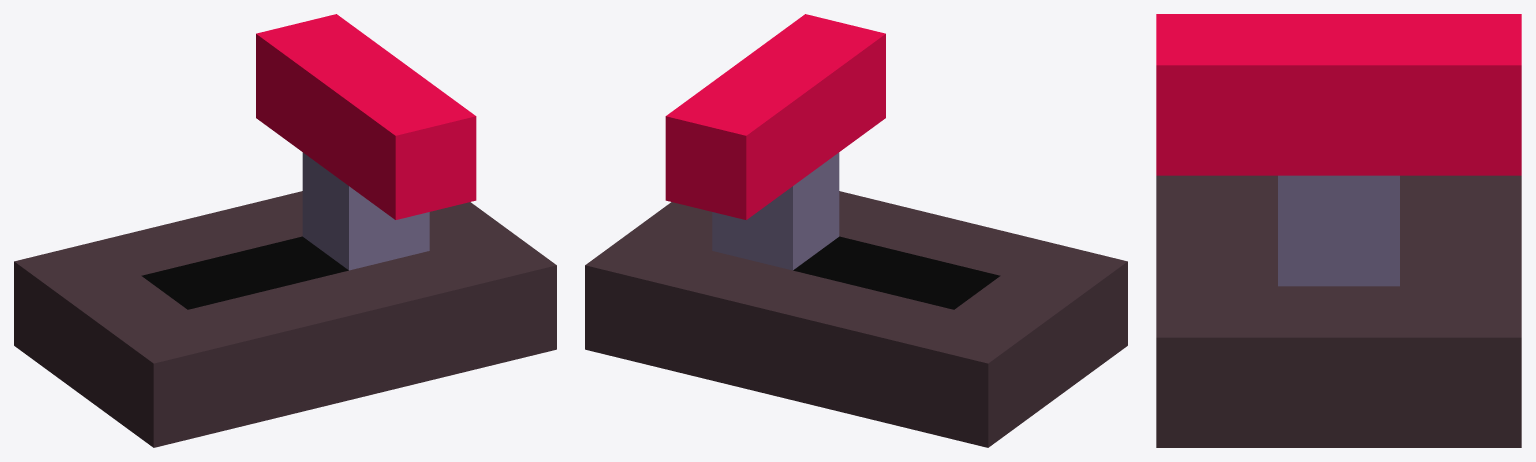
File: lever_b_a_red_on.obj
3 views of the same model, side by side, from view 1: azimuth 30°, elevation 25°; view 2: azimuth 150°, elevation 25°; view 3: azimuth 270°, elevation 25° (orthographic). The views are drawn at different scales.
Size of the model in its own units: 0.5 by 0.3 by 0.3.
Materials: 1 (1 with a texture image).
